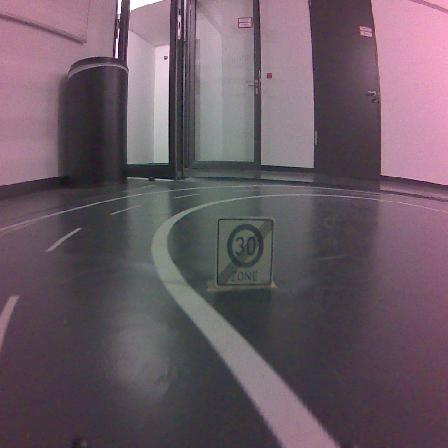30_ZONE_END: (214, 217, 274, 286)
